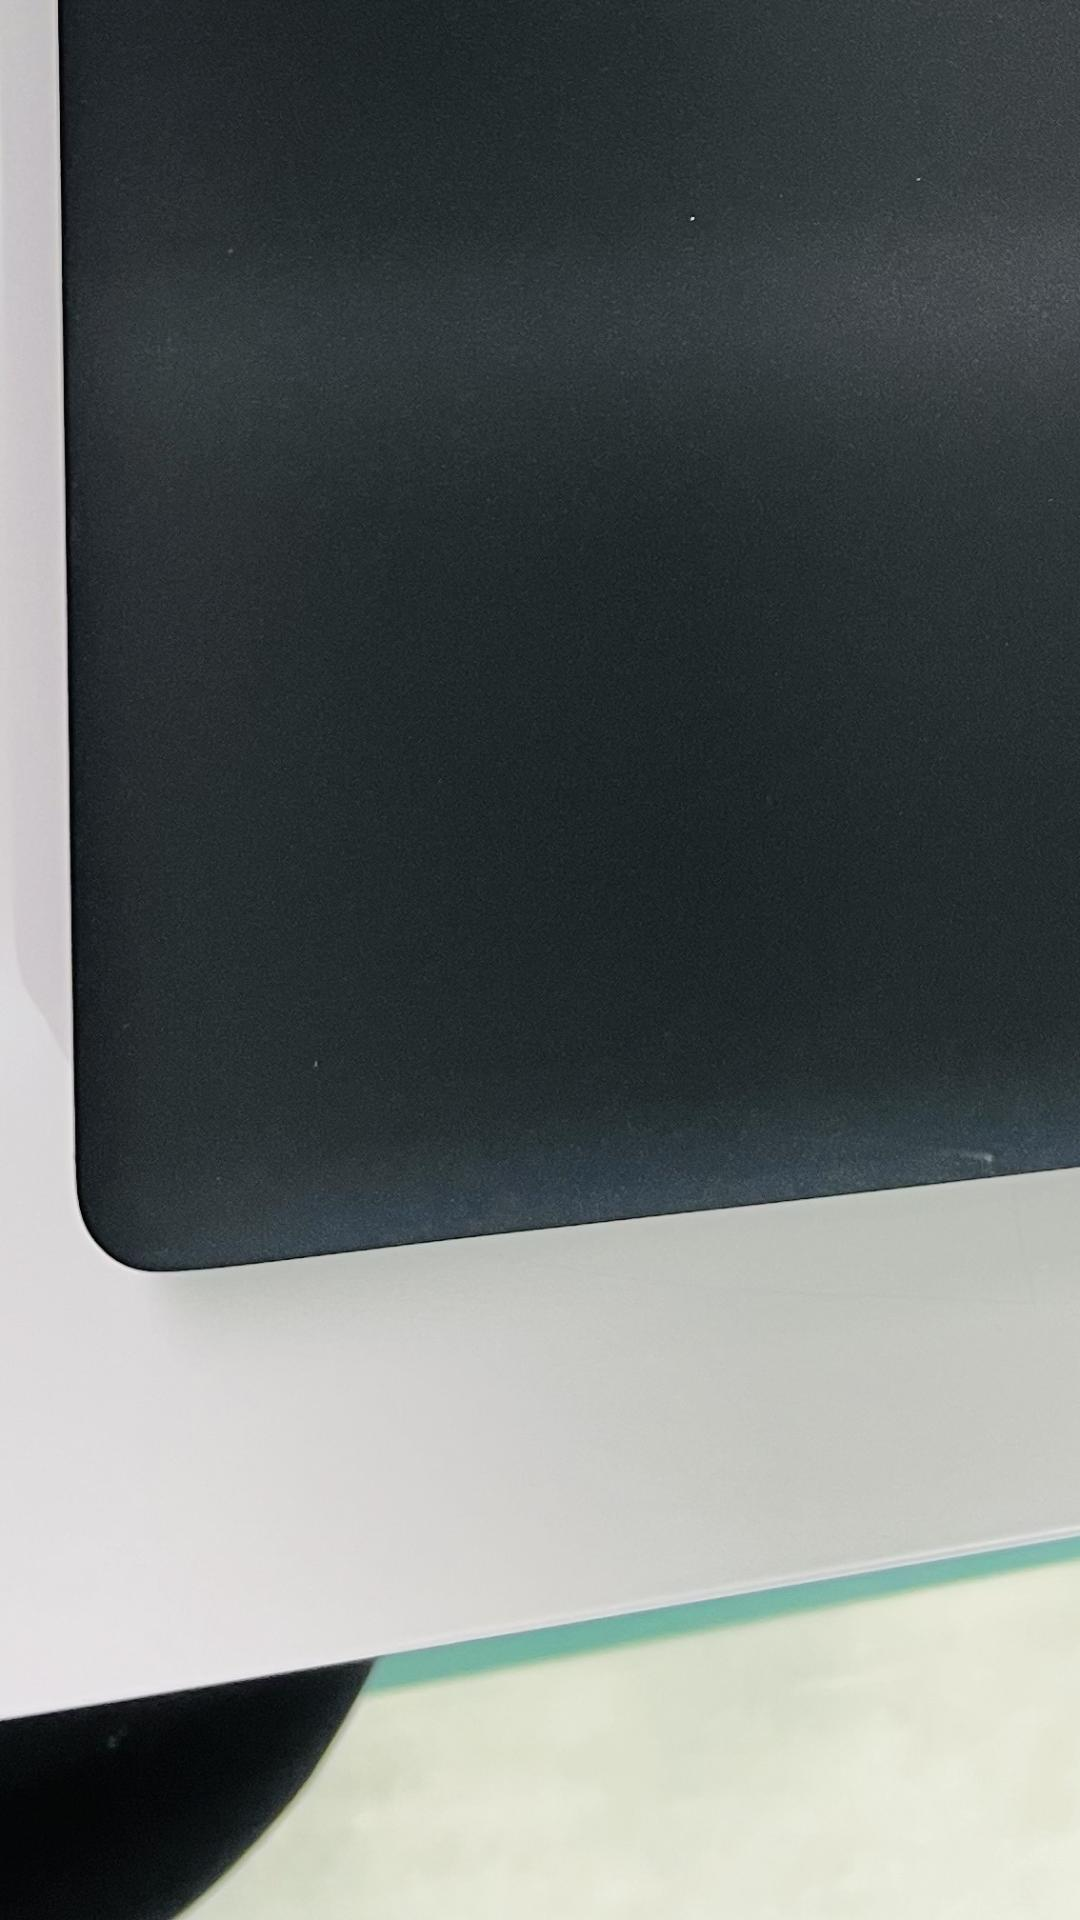scratches: (927, 1146, 1000, 1166)
